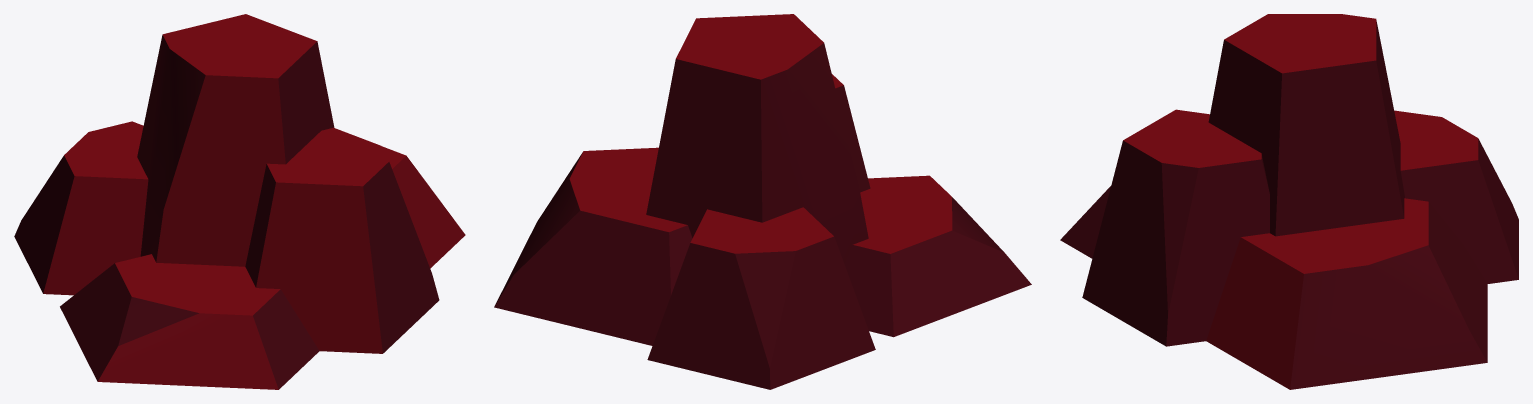
File: rockB1.fbx
3 renders of one model, left to right at view 1: azimuth 30°, elevation 25°; view 2: azimuth 150°, elevation 25°; view 3: azimuth 270°, elevation 25°, orthographic. The views are drawn at different scales.
Parts seen in each view (by area): view 1: rockB1; view 2: rockB1; view 3: rockB1.
Boxes of the visible parts, x1,y1,x2,y2 form: rockB1: (14,14,465,389); rockB1: (494,14,1031,389); rockB1: (1060,14,1518,389).
Size of the model in its own units: 161 by 84.54 by 146.
